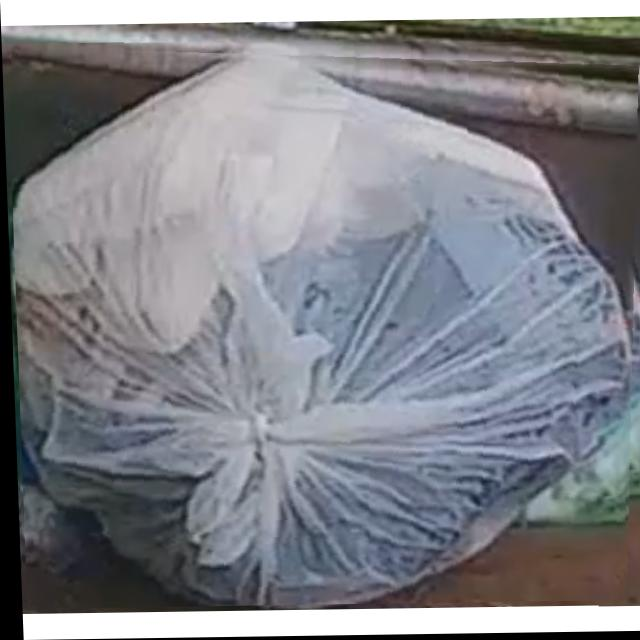other_trashbag: (12, 53, 633, 607)
